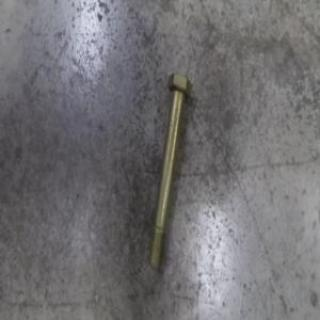Bolttrack_idkeyframe: (146, 68, 192, 271)
